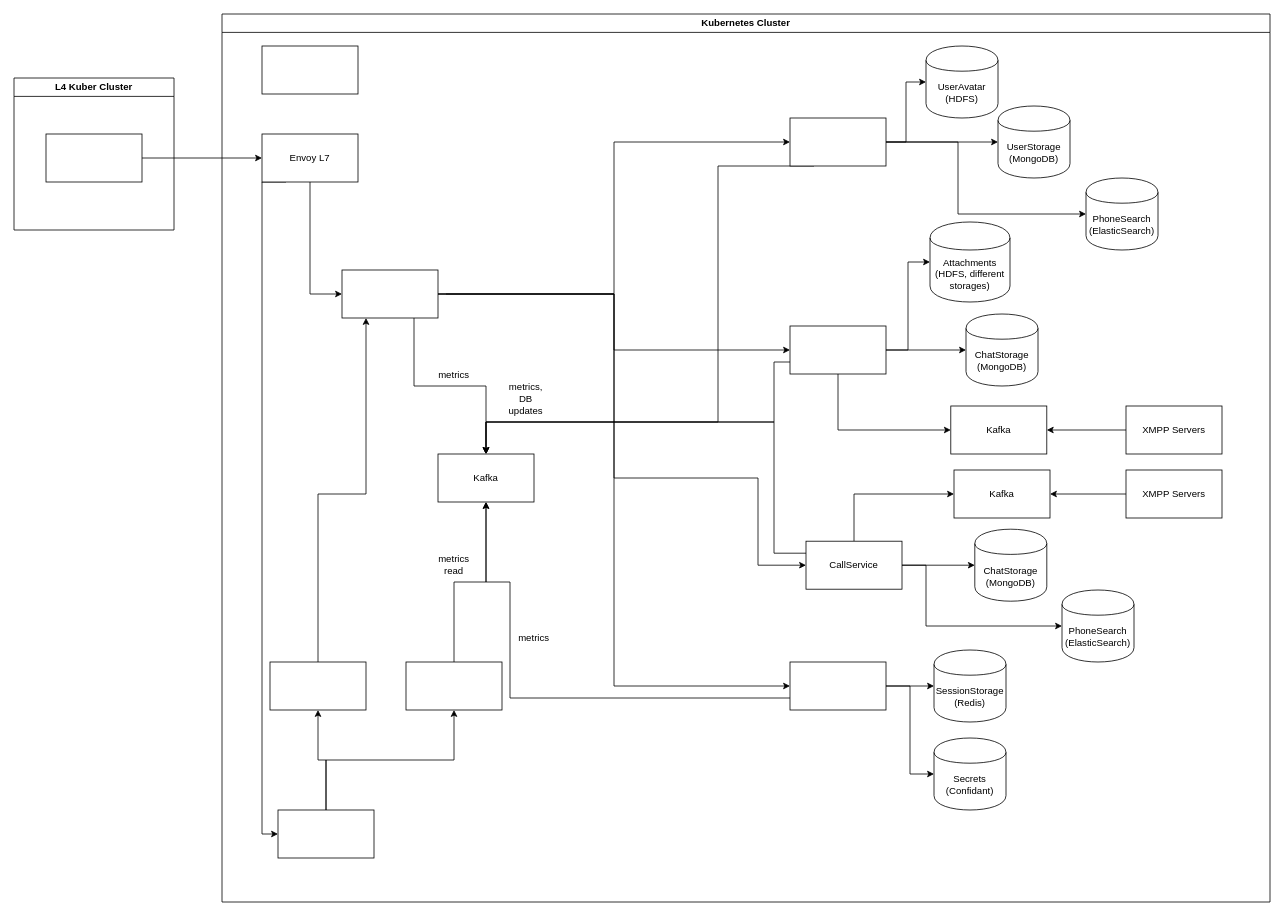
This 1284x916 diagram has some shape labels left out. Here are the shapes that lost their labels. From the top down, the centre of each, then its label:
the point at 309,69: Ansible
the point at 93,157: Nginx L4
the point at 837,141: ProfileService
the point at 389,293: API Gateway
the point at 837,349: ChatService
the point at 317,685: Jaeger
the point at 453,685: Prometheus
the point at 837,685: AuthService
the point at 325,833: Grafana
